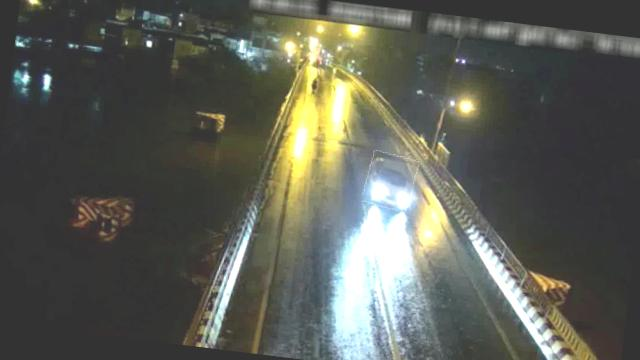Car: (362, 150, 417, 211)
